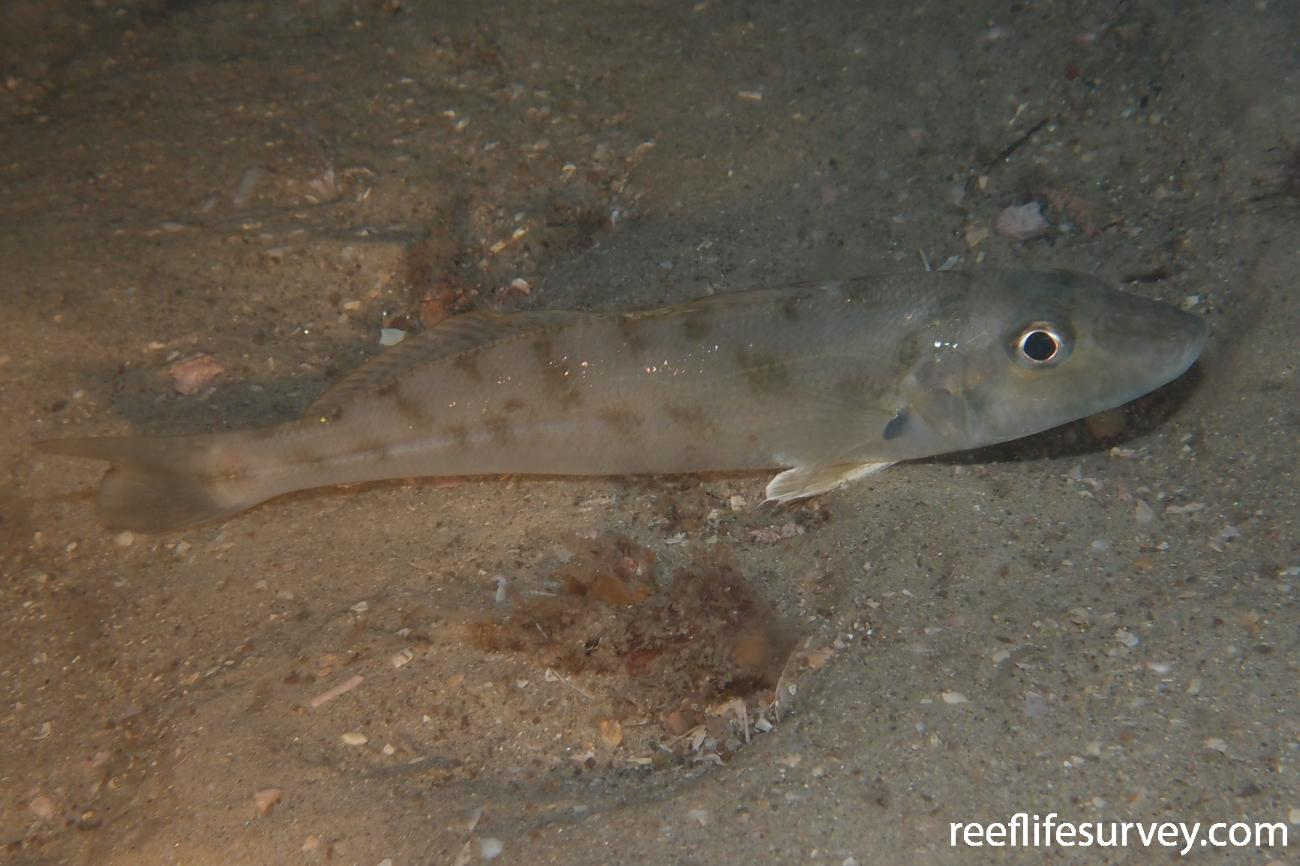kiss: (113, 234, 1210, 515)
